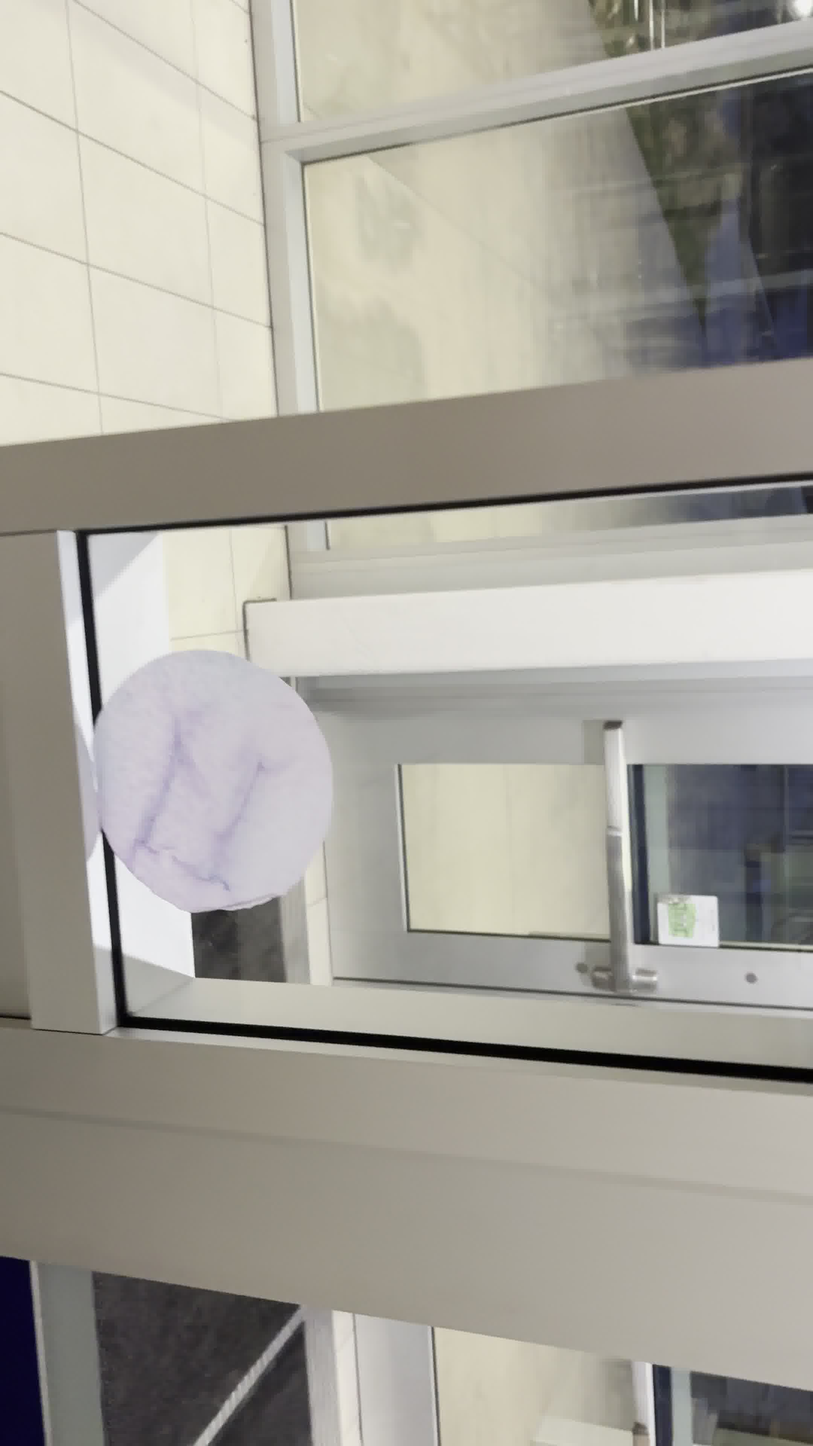Target: (84, 652, 340, 914)
